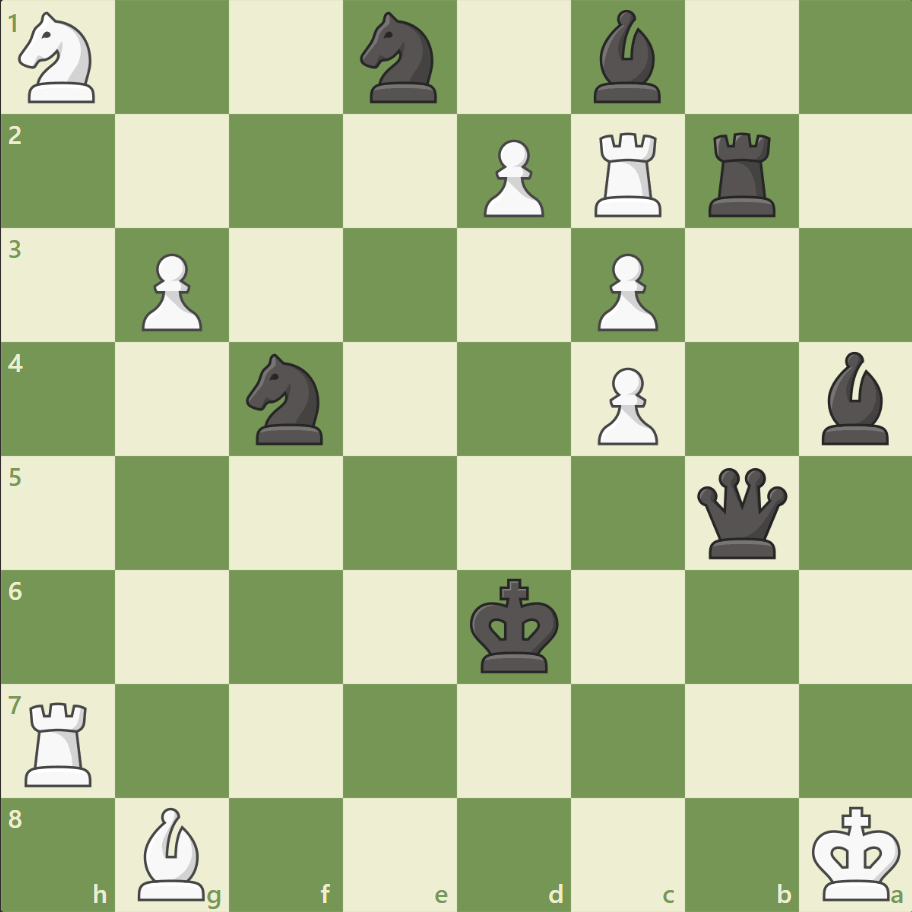B: (131, 801, 215, 904)
K: (806, 798, 906, 906)
N: (11, 7, 108, 110)
P: (133, 246, 208, 337), (474, 132, 549, 223), (588, 359, 662, 450), (588, 246, 662, 337)
R: (19, 693, 102, 790), (587, 125, 670, 222)
b: (585, 6, 669, 109), (812, 347, 896, 449)
k: (465, 571, 565, 679)
n: (351, 7, 449, 110), (238, 348, 335, 450)
q: (691, 463, 790, 562)
r: (700, 125, 783, 222)
